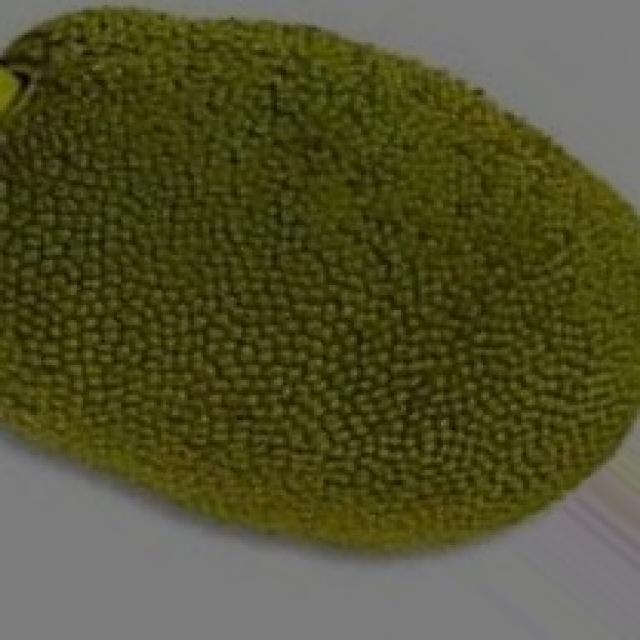Fruit: (0, 0, 409, 380), (274, 2, 640, 302)
